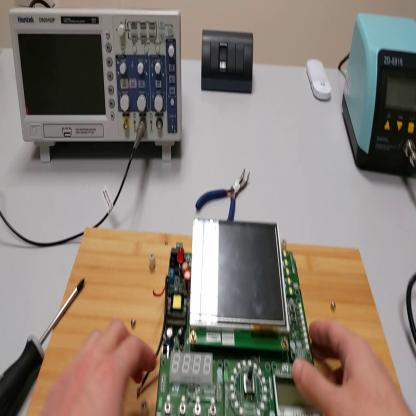hand: (44, 317, 158, 416), (294, 320, 411, 416)
low voltage board: (137, 215, 327, 416)
oscilloscope: (10, 6, 184, 163)
pliers: (196, 168, 251, 221)
screwdriver-: (2, 278, 87, 415)
welder station: (342, 15, 416, 178)
working area: (27, 227, 409, 413)
